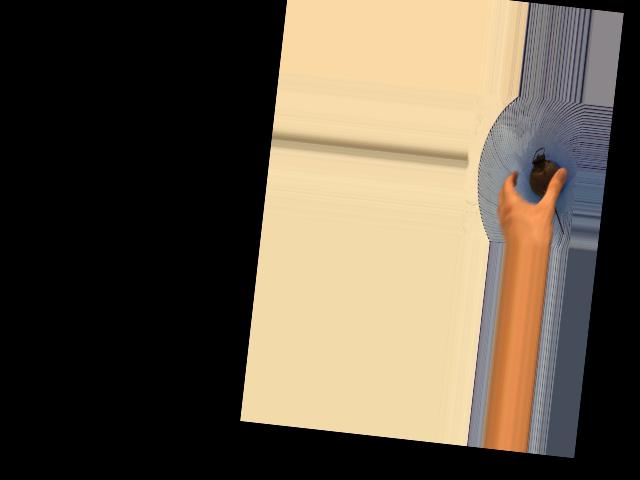beet: (524, 146, 573, 233)
